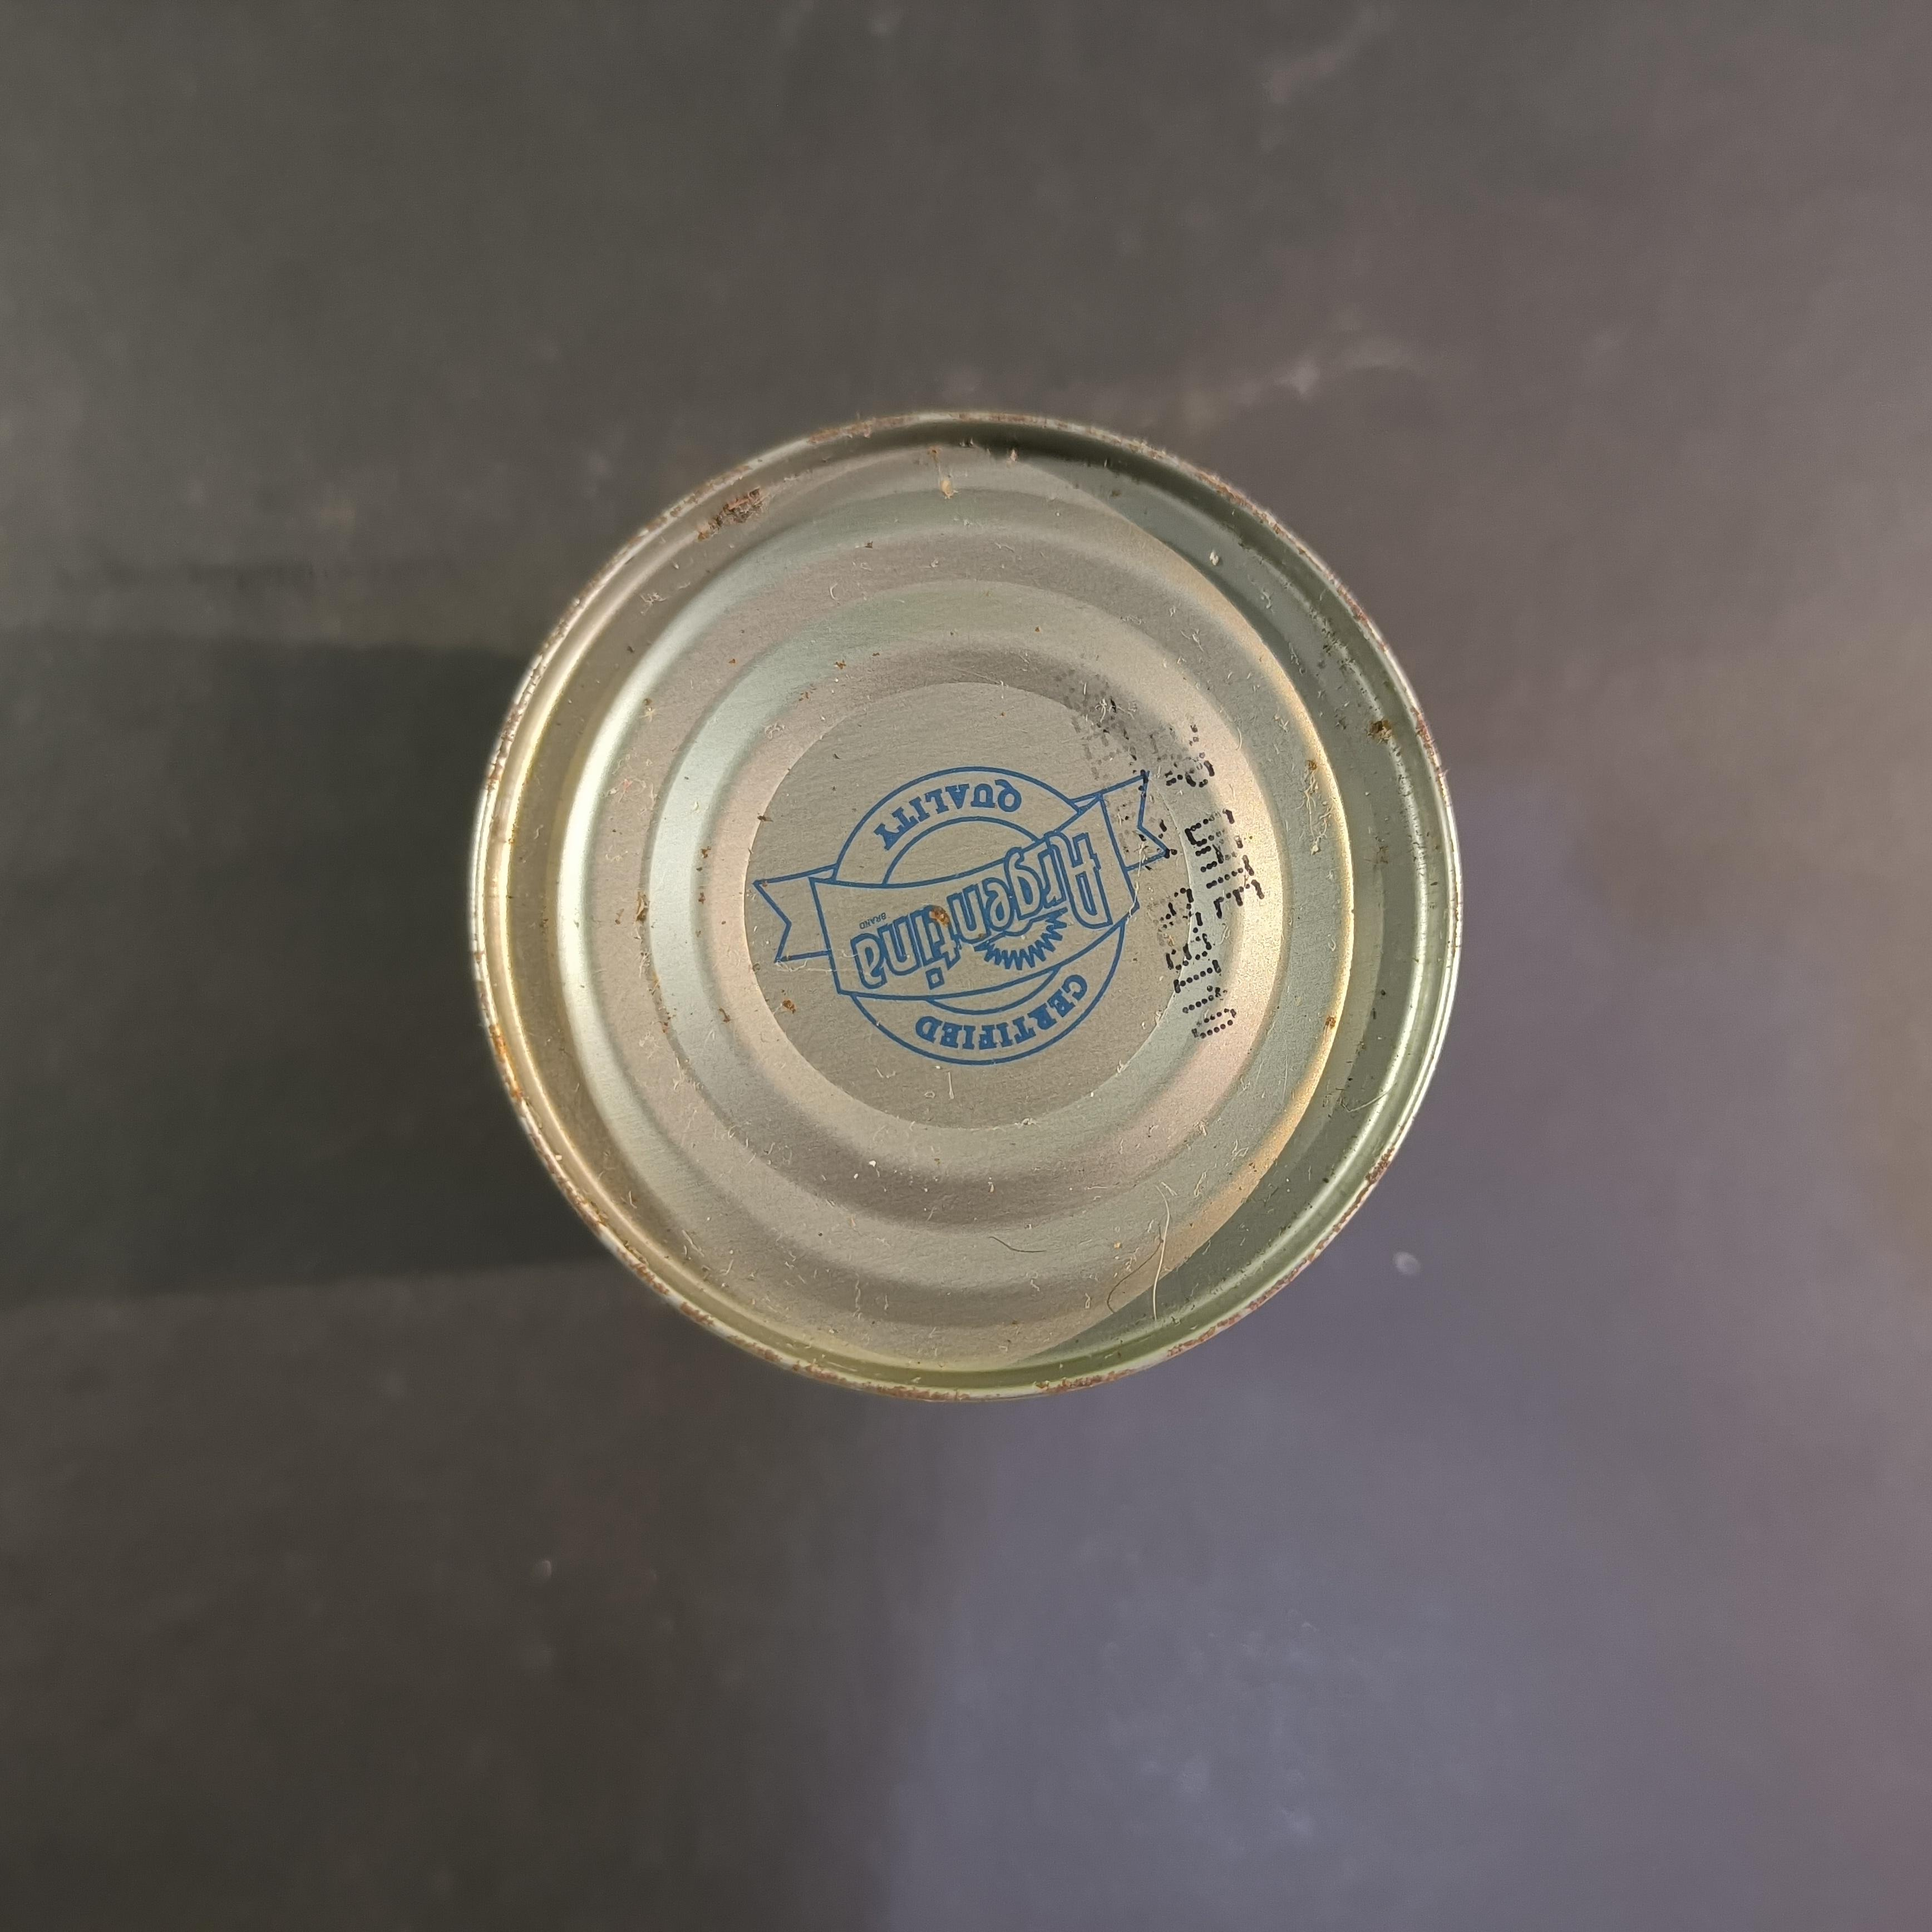Minor Defect: (456, 387, 1486, 1424)
